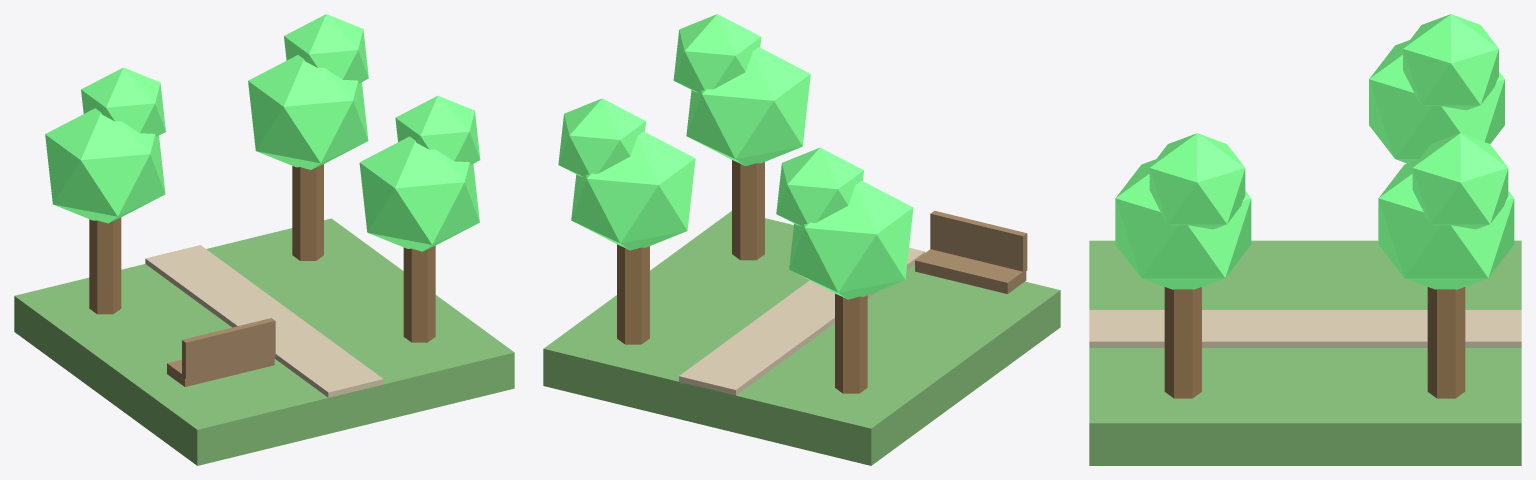
Rendered from park.glb.
3 renders of one model, left to right at view 1: azimuth 30°, elevation 25°; view 2: azimuth 150°, elevation 25°; view 3: azimuth 270°, elevation 25°, orthographic. The views are drawn at different scales.
Parts seen in each view (by area): view 1: park; view 2: park; view 3: park.
Part boxes in pixels (<box>): park: <box>14,14,514,465</box>; park: <box>543,14,1060,465</box>; park: <box>1089,14,1521,465</box>.
Bounding box in the file's own units: 0.9373 × 0.74 × 0.92.
